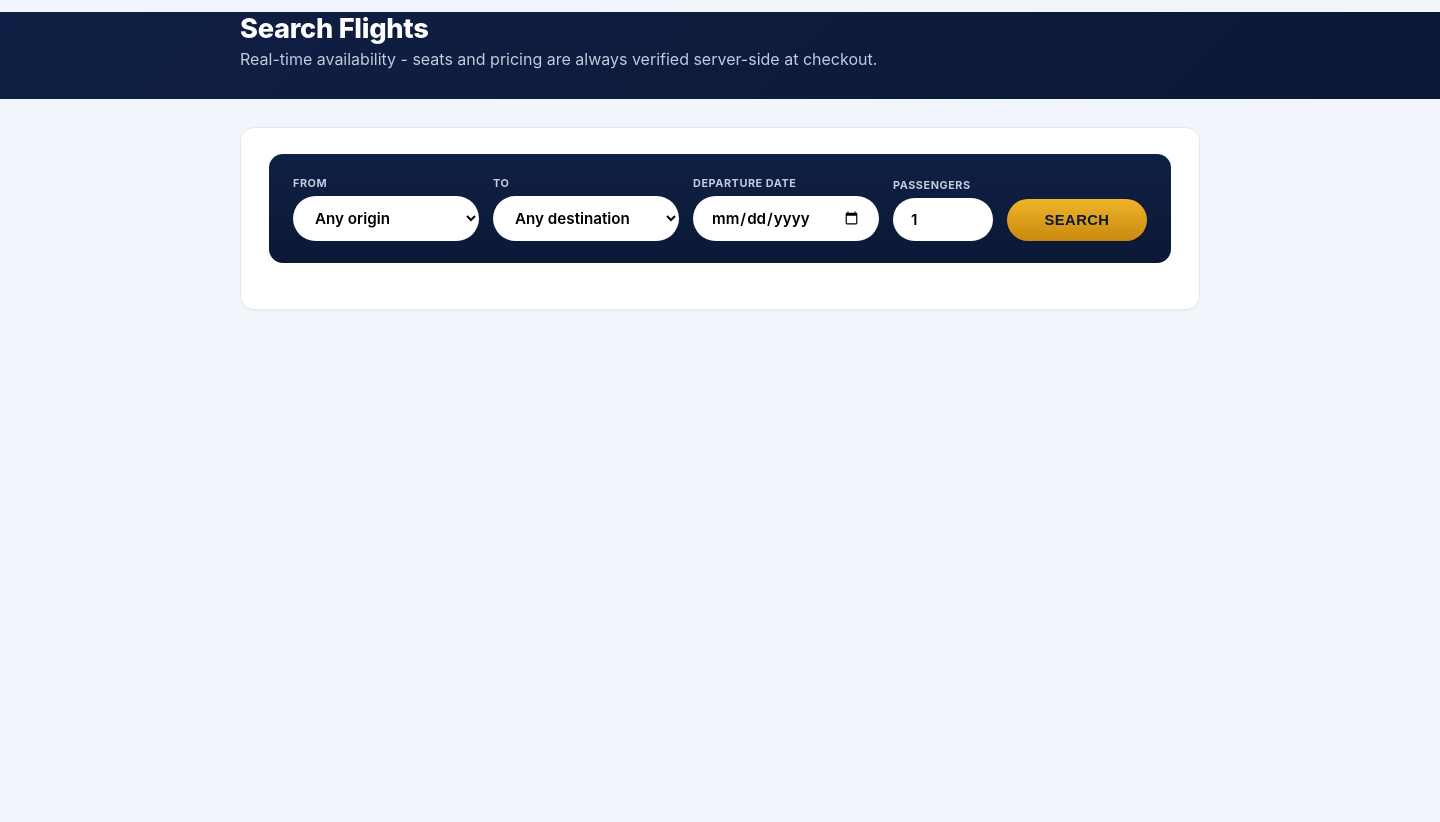
Test: FlightSearch Component › sold-out flights show a disabled "Sold out" button
Click the button "Search" at (1077, 220), box [1007,199,1147,241]
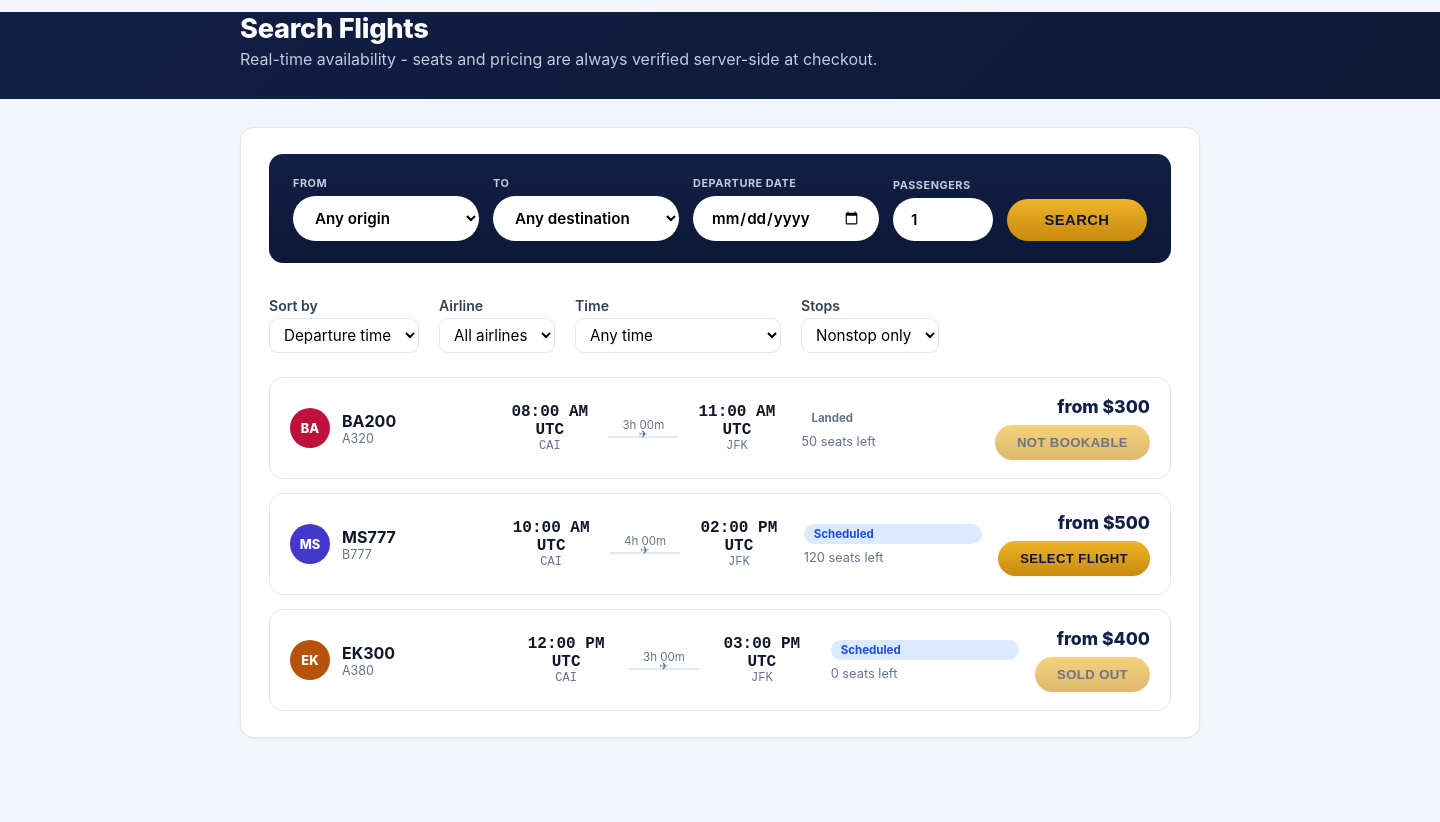
Now the text "EK300" is shown, box [342,642,395,662]
Now the button "Sold out" is disabled, box [1035,657,1150,692]
